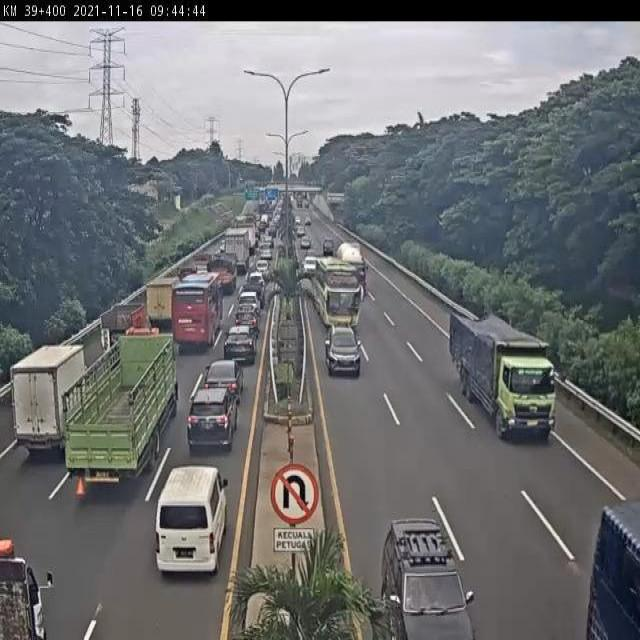big bus: (167, 272, 217, 352), (313, 259, 364, 325)
car: (385, 525, 477, 640), (153, 471, 225, 581), (188, 386, 236, 451), (325, 325, 362, 372), (204, 361, 245, 403), (221, 329, 253, 368), (232, 308, 259, 335), (236, 288, 261, 316)
truck-l-: (59, 340, 184, 497), (452, 307, 557, 441)
truck-m-: (11, 342, 87, 454), (100, 304, 148, 353), (143, 278, 177, 334), (198, 258, 234, 298)
